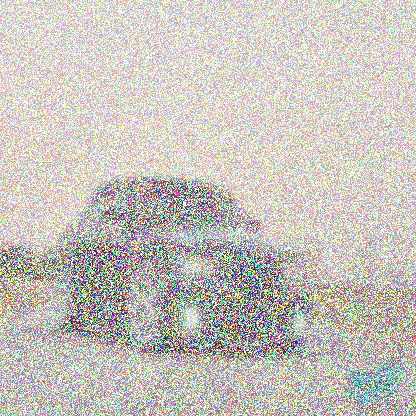Vehicle: (54, 172, 312, 356)
